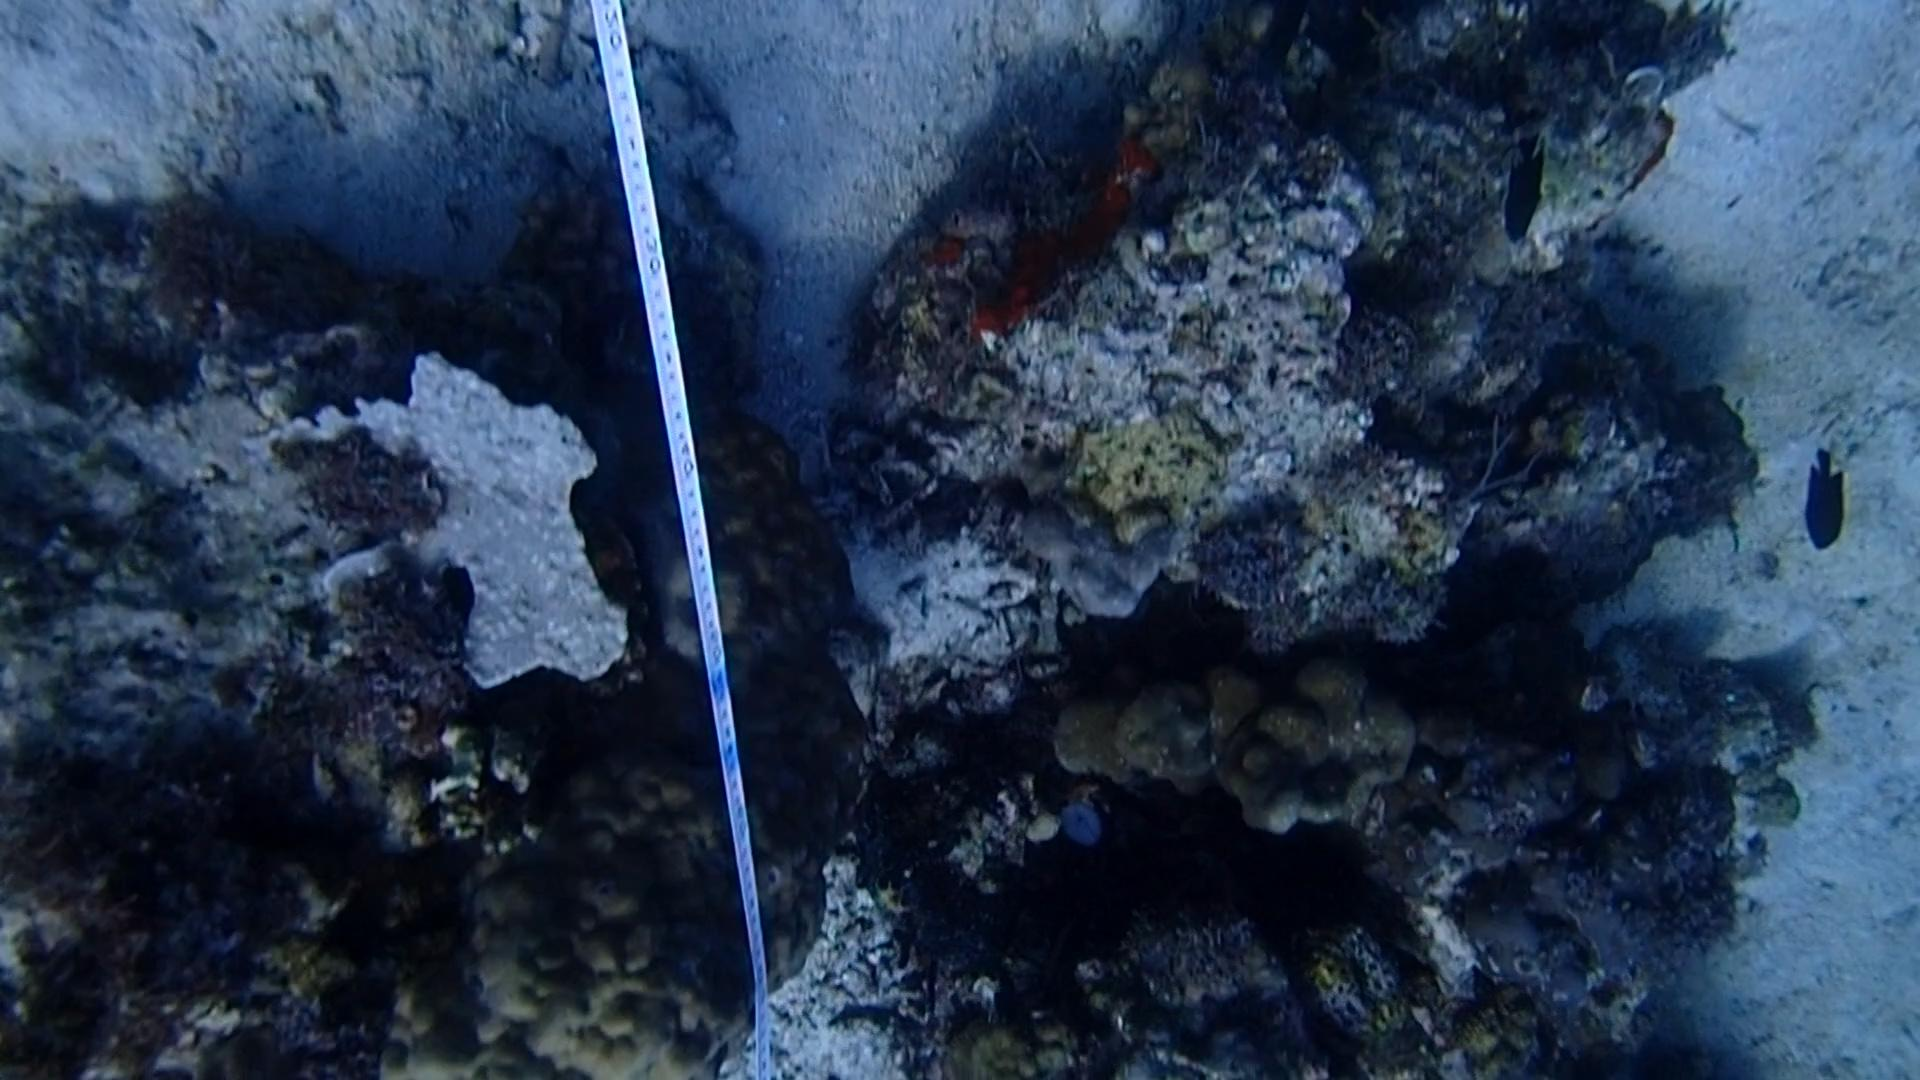Dark Fish: (1487, 120, 1565, 257), (1796, 433, 1858, 567)
